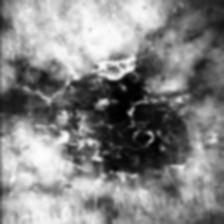Potentially Malignant Skin Tumors: (0, 54, 187, 178)
